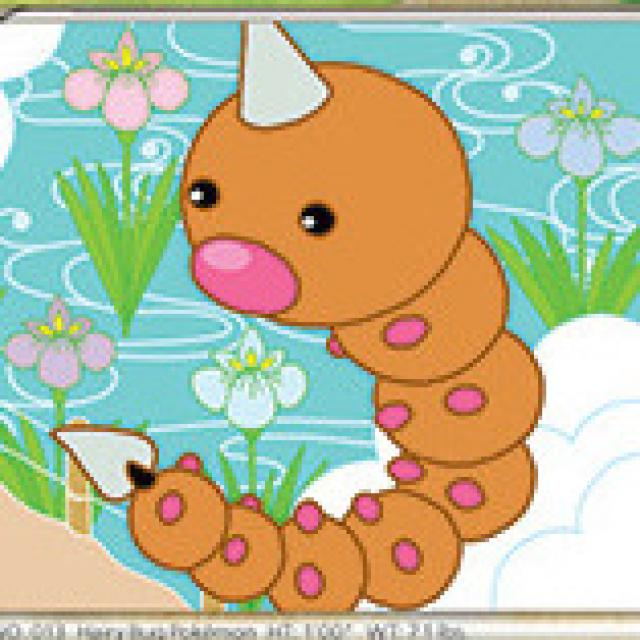Weedle: (167, 13, 514, 608)
